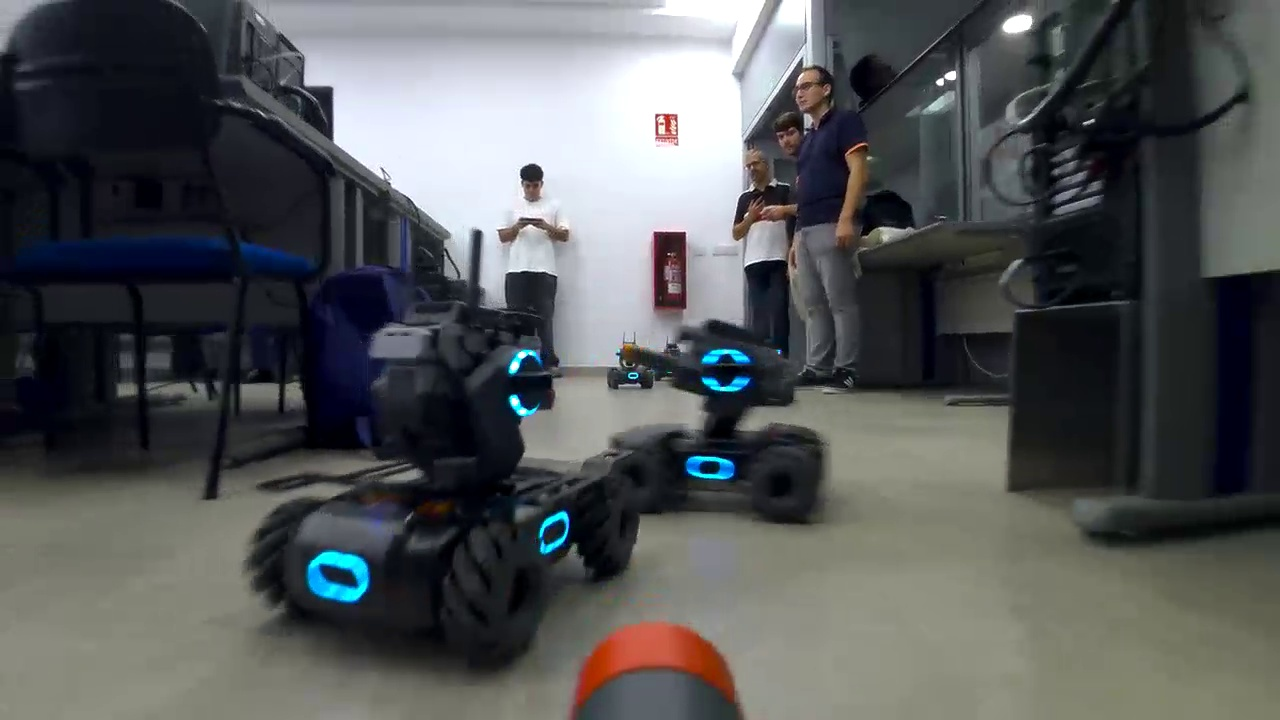robot: (231, 286, 647, 677), (602, 316, 833, 531), (602, 336, 655, 394), (650, 341, 695, 385)
